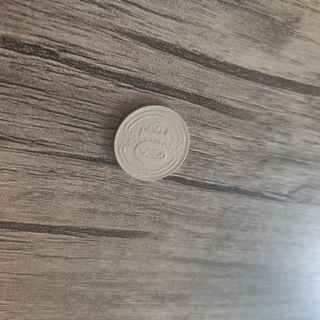10KURUS: (112, 103, 190, 183)
